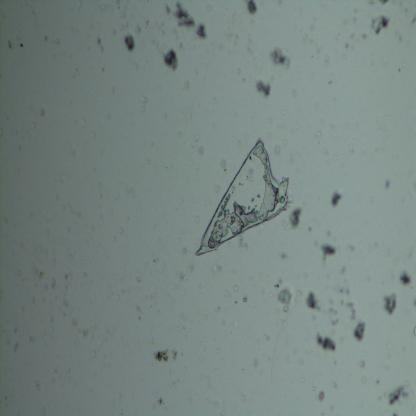Background material: (164, 4, 206, 42), (63, 300, 90, 340), (368, 14, 392, 40), (151, 344, 179, 365), (268, 46, 290, 70), (314, 332, 336, 356), (383, 385, 410, 404), (301, 32, 322, 56), (161, 48, 182, 72), (179, 258, 198, 284), (33, 259, 49, 289), (343, 24, 361, 50), (381, 290, 398, 316), (90, 34, 112, 54), (254, 80, 273, 103), (306, 289, 322, 316), (327, 186, 344, 211), (319, 245, 337, 268), (332, 282, 356, 298), (352, 321, 369, 343), (286, 209, 302, 232), (133, 18, 153, 34), (10, 324, 22, 350), (279, 287, 291, 313), (396, 270, 413, 288), (344, 298, 356, 323), (122, 34, 136, 54), (327, 305, 339, 326), (131, 300, 142, 322), (246, 0, 258, 18), (149, 397, 165, 409), (320, 56, 332, 70), (178, 76, 189, 91), (368, 0, 391, 7), (381, 172, 391, 188), (5, 34, 15, 49), (49, 278, 59, 291), (316, 390, 327, 401), (242, 296, 249, 304), (18, 42, 24, 48), (413, 326, 416, 336)
Fragment: (195, 137, 291, 256)
Glass filter fibre: (269, 298, 302, 382)
